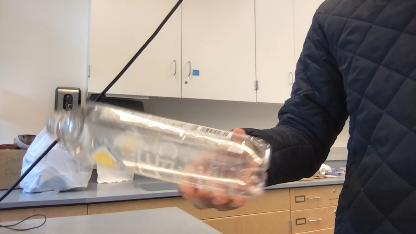Plastic Bottle: (46, 107, 270, 200)
